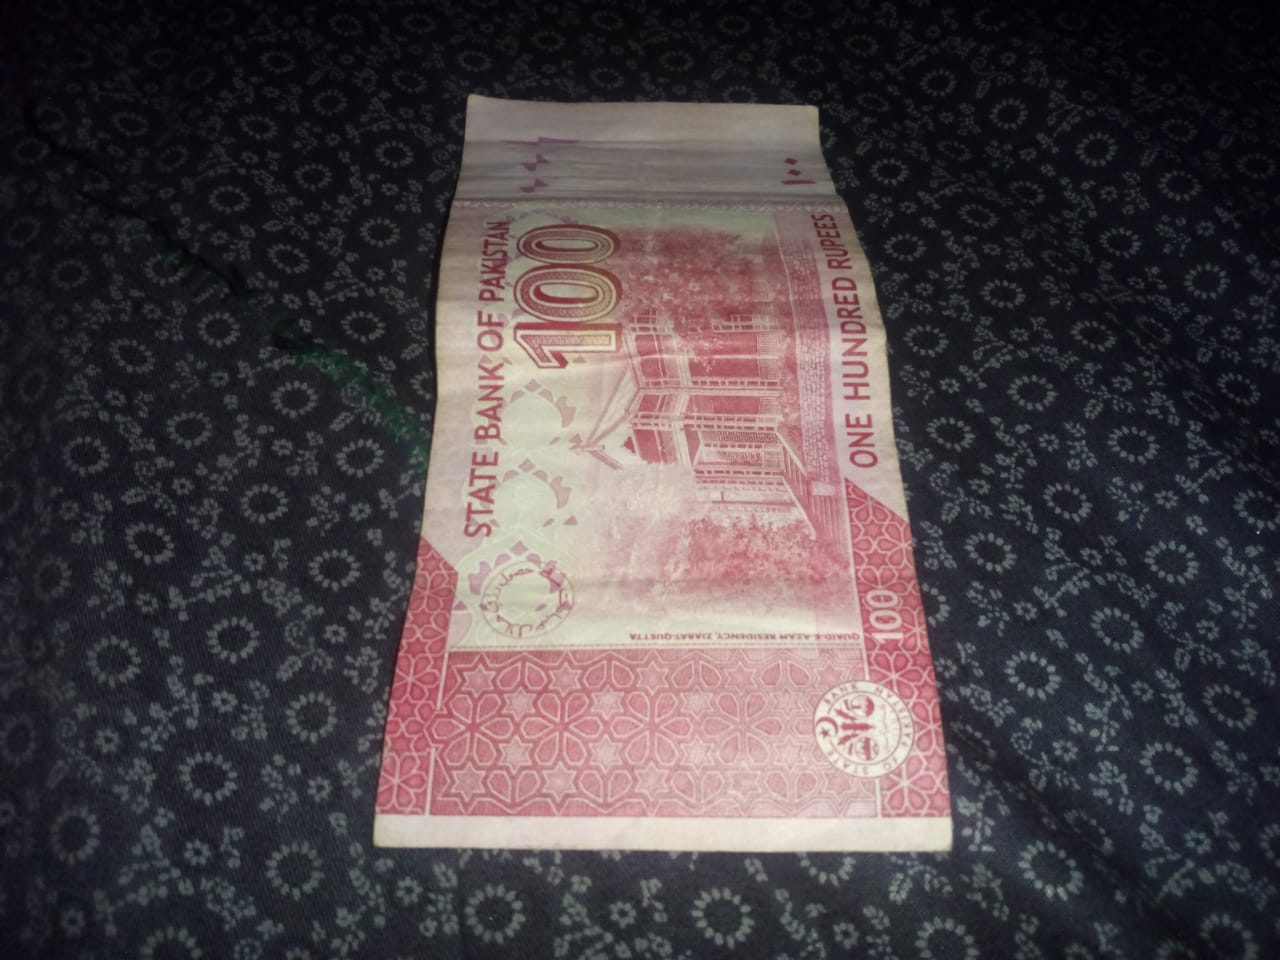100 rupee: (379, 61, 955, 868)
